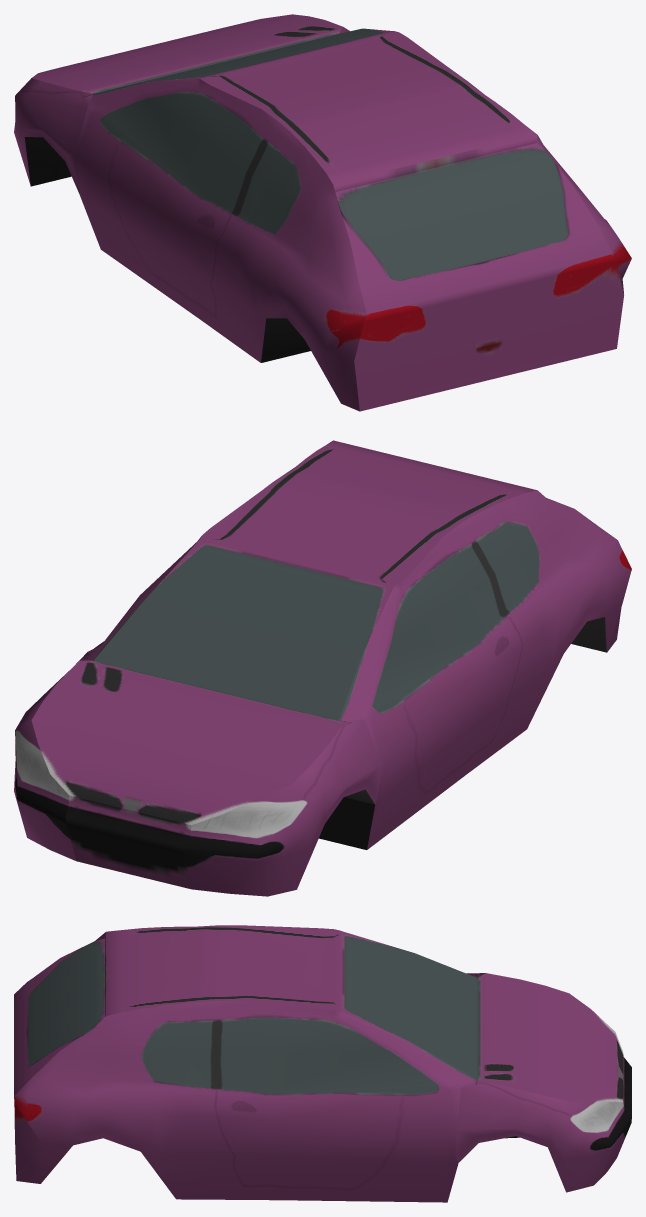
File: lp-compacte-rose.glb
The picture shows the model from 3 angles, top to bottom: view 1: azimuth 30°, elevation 25°; view 2: azimuth 150°, elevation 25°; view 3: azimuth 270°, elevation 25°; orthographic projection. The views are drawn at different scales.
Visible parts, largest first — view 1: Object_44; view 2: Object_44; view 3: Object_44.
Boxes of the visible parts, x1,y1,x2,y2 form: Object_44: (14,14,631,411); Object_44: (14,440,631,896); Object_44: (14,925,631,1202).
Size of the model in its own units: 2.36 by 1.58 by 4.81.
1 material, 1 textured.
